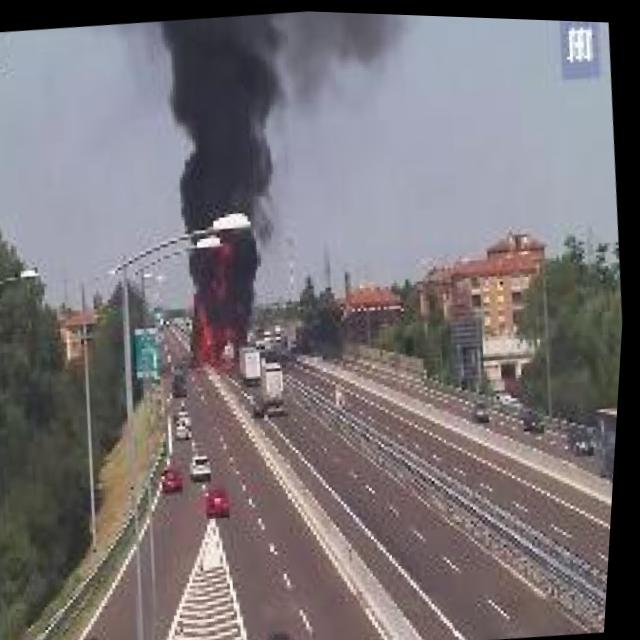fire: (182, 235, 258, 374)
